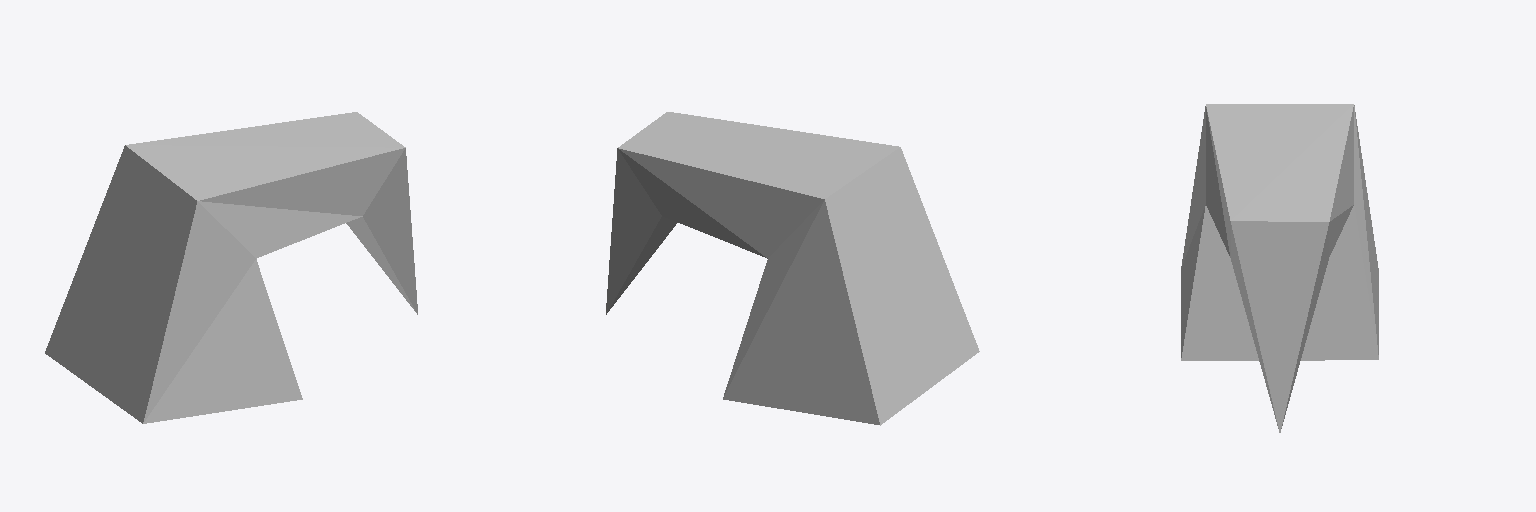
File: skeletal_000018.obj
The picture shows the model from 3 angles: view 1: azimuth 30°, elevation 25°; view 2: azimuth 150°, elevation 25°; view 3: azimuth 270°, elevation 25°; orthographic projection.
Visible parts, largest first — view 1: Cube; view 2: Cube; view 3: Cube.
Boxes of the visible parts, box(x1,y1,x2,y2) form: Cube: box(45, 112, 417, 423); Cube: box(606, 112, 979, 425); Cube: box(1181, 104, 1378, 432).
Bounding box in the file's own units: 3.79 × 2.38 × 2.